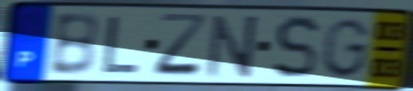B: (46, 10, 101, 78)
G: (318, 16, 372, 80)
L: (100, 14, 142, 75)
N: (205, 13, 262, 79)
S: (271, 13, 322, 82)
Z: (152, 12, 212, 80)
